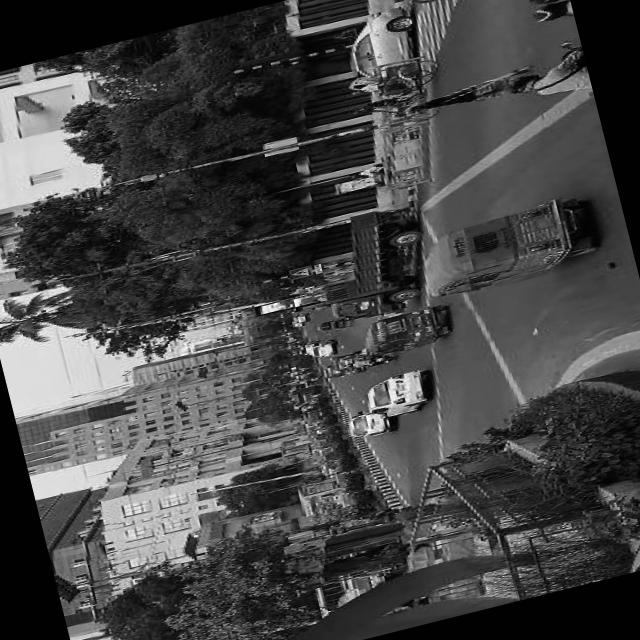car: (332, 1, 420, 83), (355, 364, 440, 425), (336, 402, 391, 442), (306, 334, 336, 360)
motorcycle: (406, 187, 606, 306), (336, 50, 451, 137), (350, 300, 456, 360), (316, 354, 359, 380), (306, 312, 352, 335), (374, 0, 441, 11), (327, 349, 360, 371)
truck: (298, 197, 436, 330)
